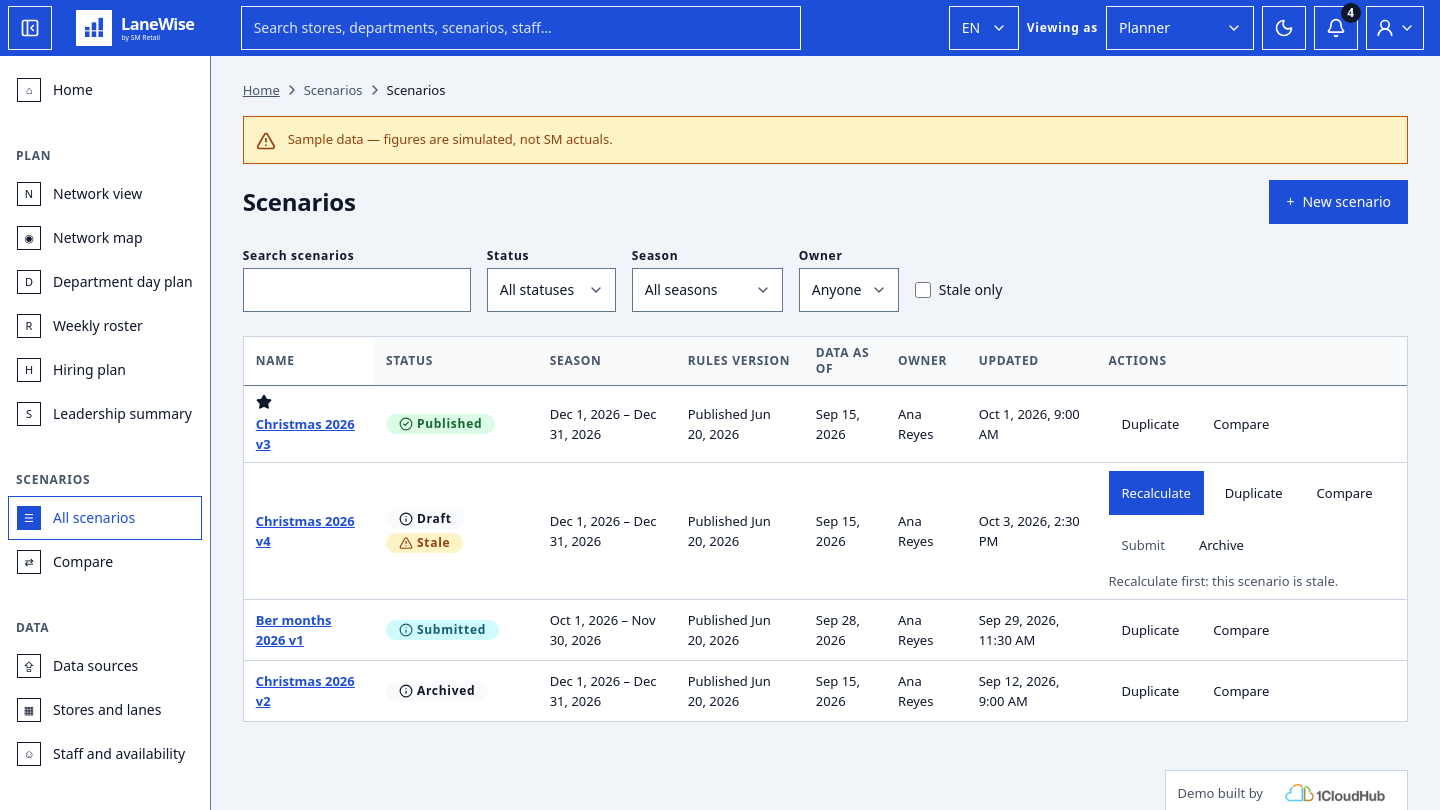
SCR-030 Scenario list › asks before archiving
What coordinates should you click on to do the following:
click the button with aria-label "Archive: Christmas 2026 v4"
I would click on:
 (1221, 545)
Its box is [1186,523,1257,567].
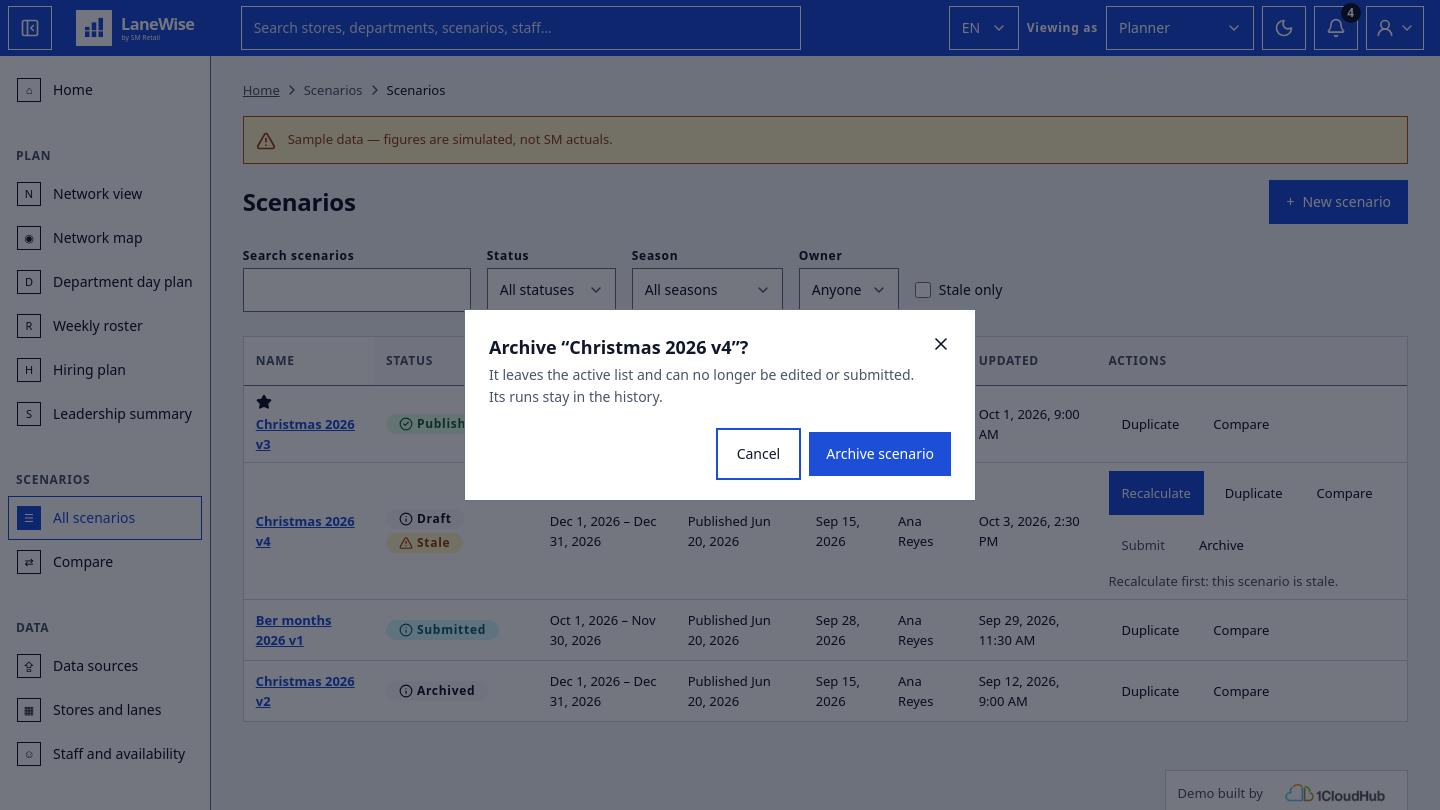
What coordinates should you click on to do the following:
click the button "Cancel"
I would click on:
 (758, 454)
Its box is [720,432,797,476].
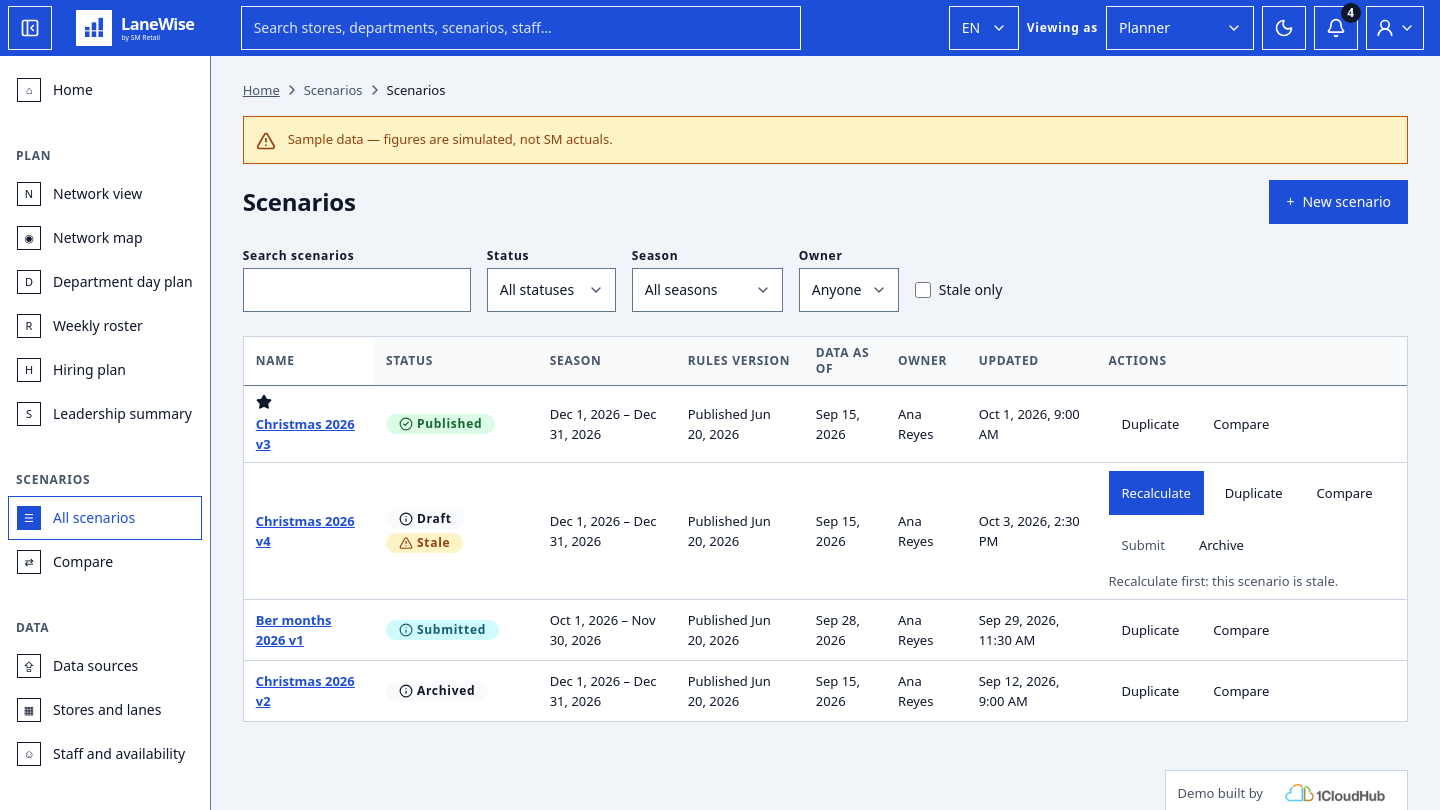
What coordinates should you click on to do the following:
click the button with aria-label "Archive: Christmas 2026 v4"
I would click on:
 (1221, 545)
Its box is [1186,523,1257,567].
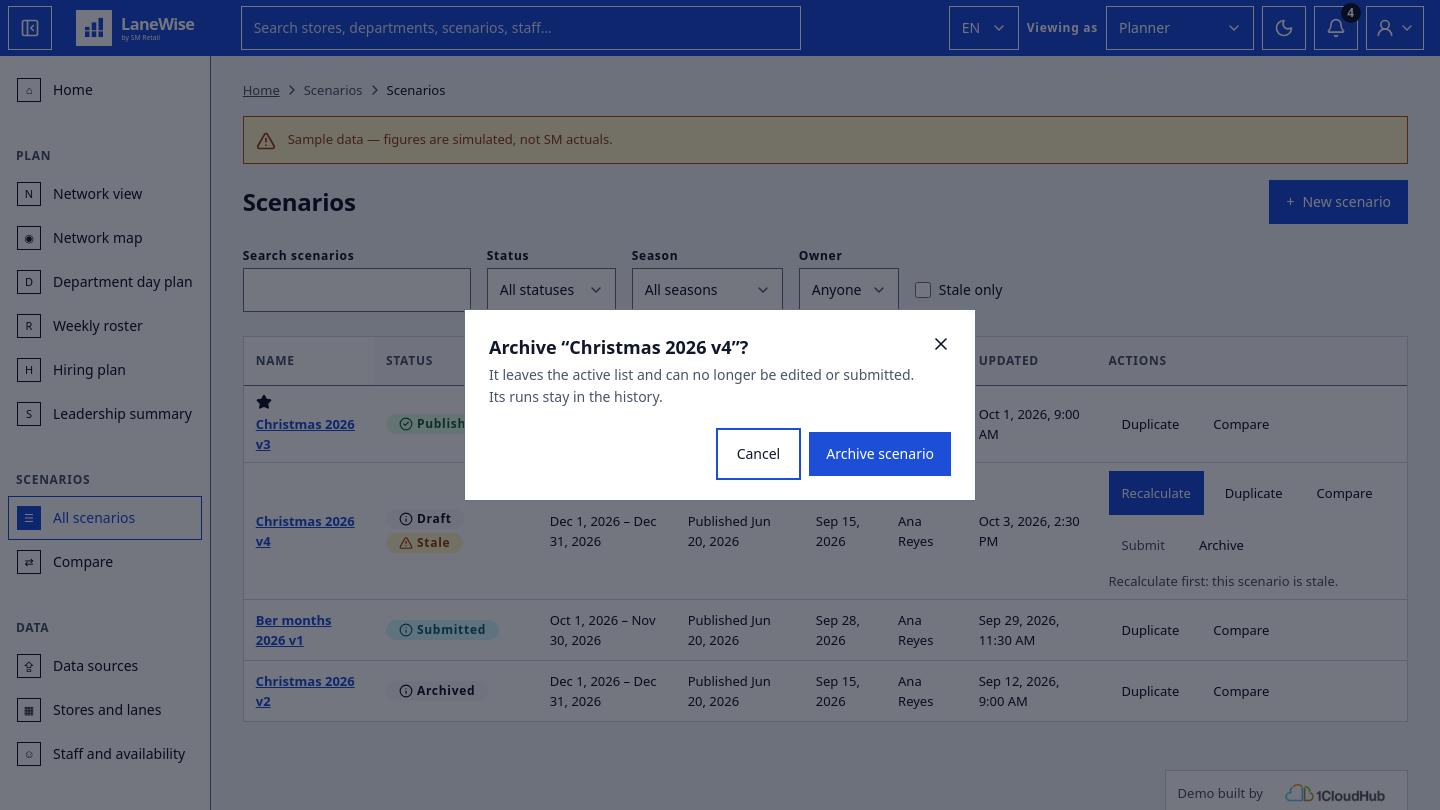
What coordinates should you click on to do the following:
click the button "Archive scenario"
I would click on:
 (880, 454)
Its box is [809,432,951,476].
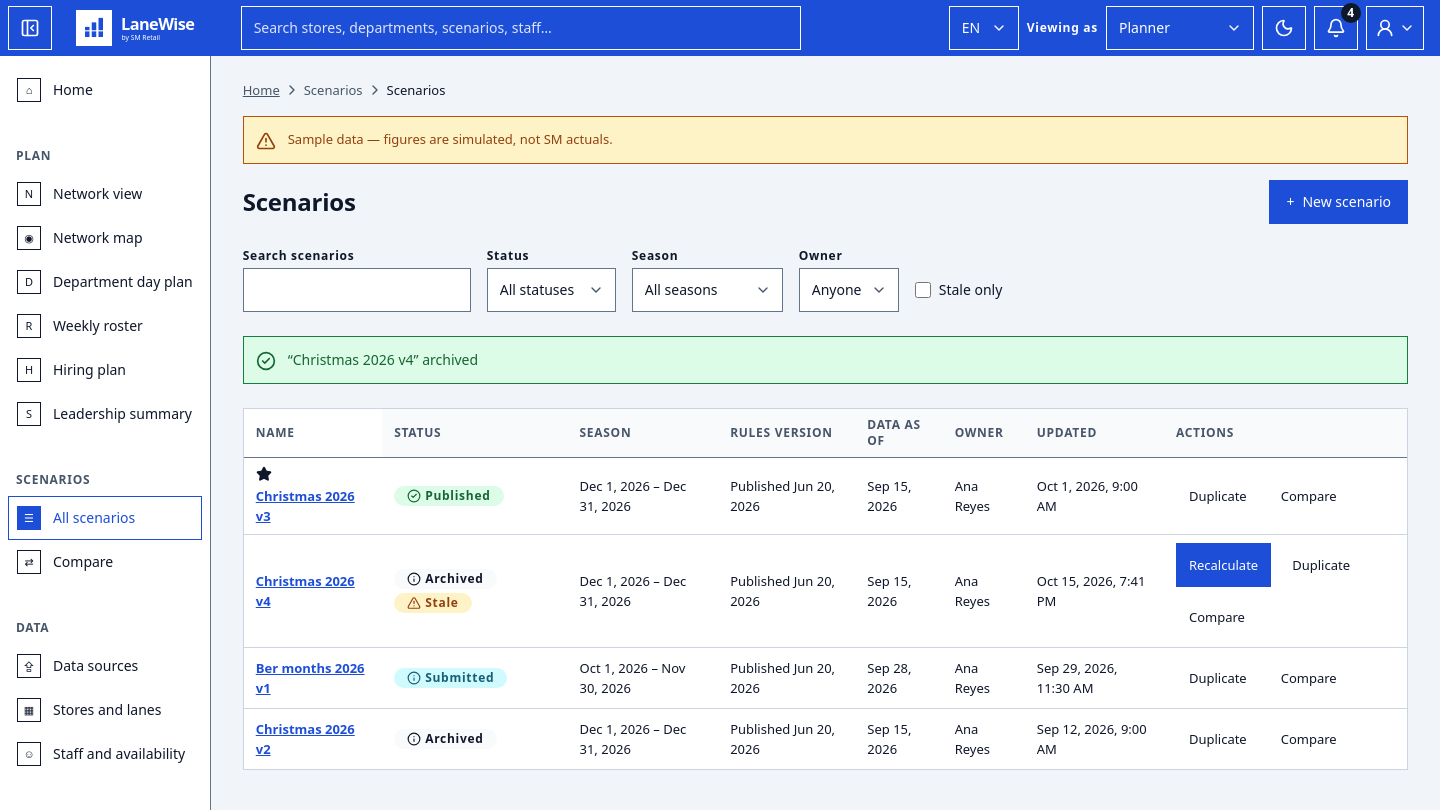
Expected: the text "“Christmas 2026 v4” archived" is shown, [288,350,478,369]
